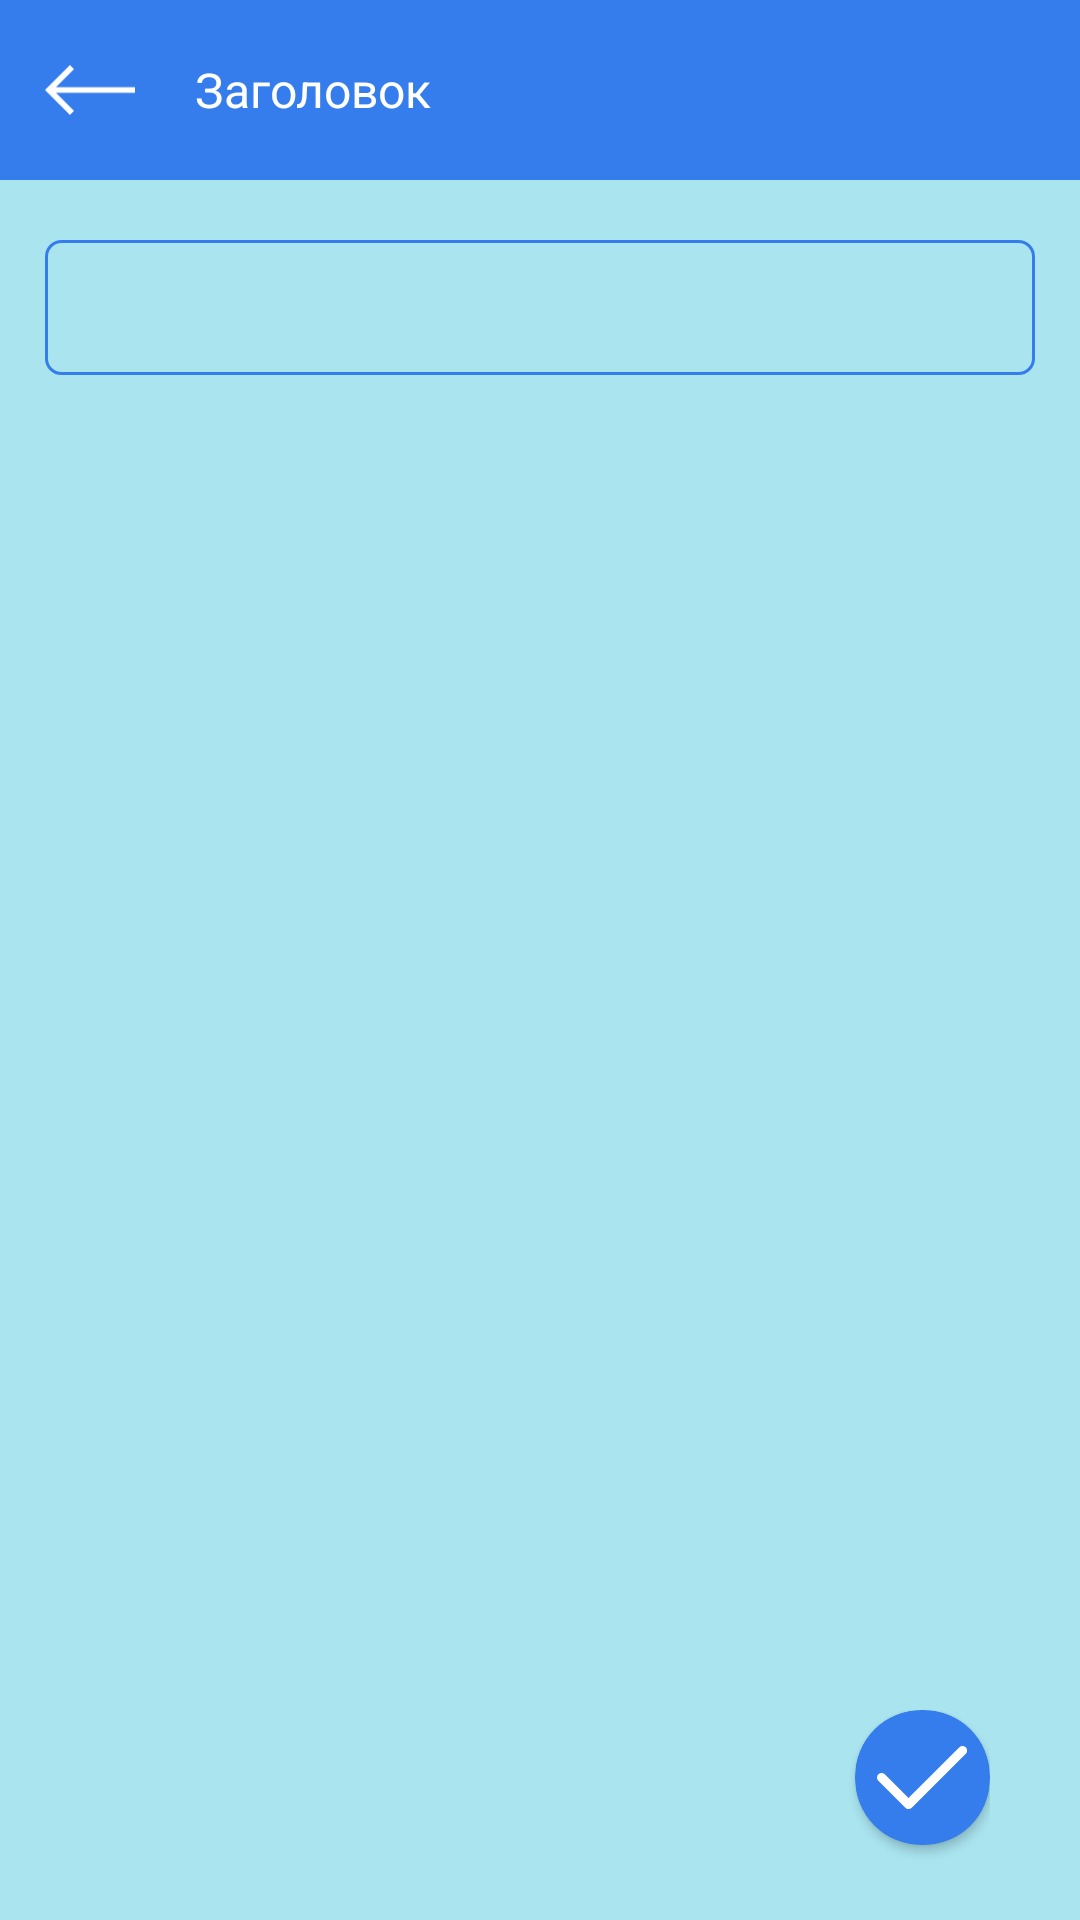

Screen size 1080 x 1920. Icon name, then its center in pixels as [x,y]:
arrow back: [90,90]
check: [922,1777]
